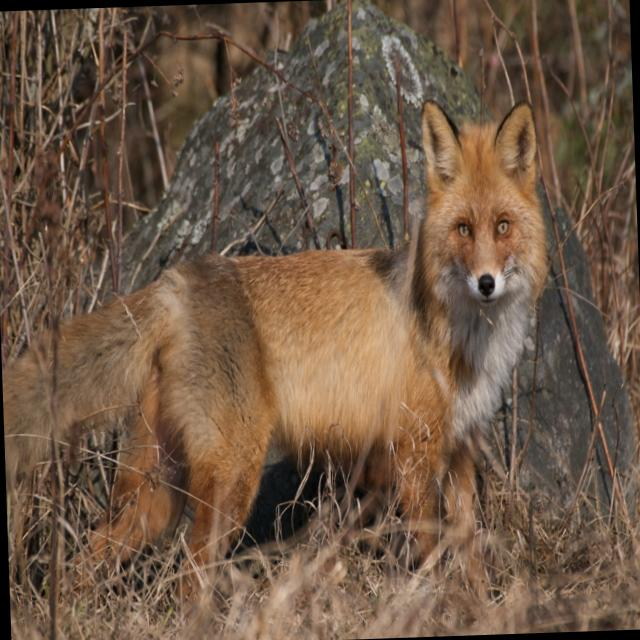fox: (57, 75, 579, 598)
